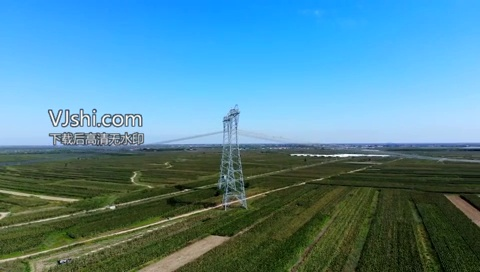tower_body: (217, 101, 254, 210)
tower_foot: (223, 185, 247, 208)
tower_head: (220, 104, 242, 125)
